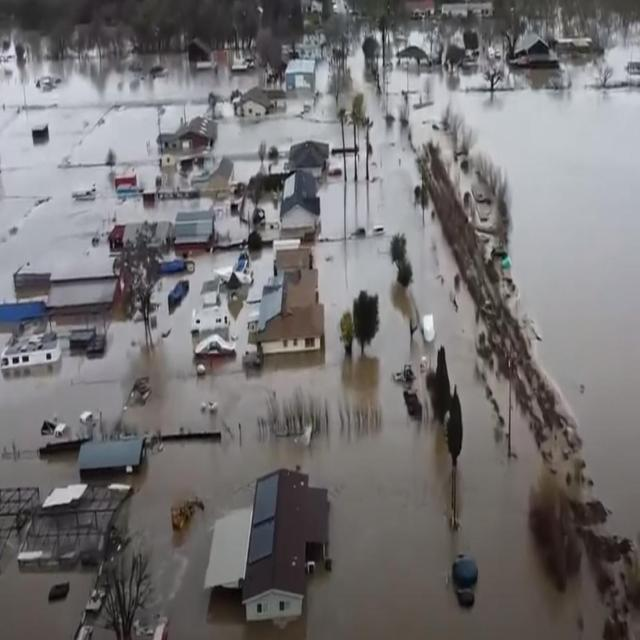flood: (0, 102, 611, 638), (421, 61, 640, 537), (1, 52, 229, 301), (215, 91, 341, 179), (379, 14, 494, 101), (0, 556, 95, 639), (339, 18, 377, 106), (247, 247, 273, 299), (607, 40, 640, 76), (215, 202, 243, 240), (316, 48, 335, 101), (410, 58, 431, 86), (416, 74, 426, 89)
house: (245, 461, 327, 629), (252, 240, 326, 361), (2, 306, 61, 375), (281, 141, 331, 218), (158, 116, 219, 164), (170, 206, 218, 252), (511, 24, 556, 70), (110, 165, 158, 197), (234, 84, 272, 122), (284, 56, 316, 93), (190, 307, 232, 331), (201, 275, 223, 305)
